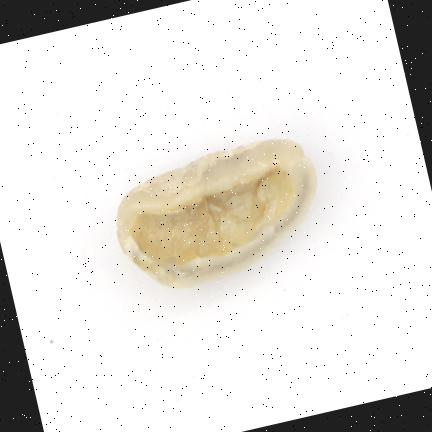shell: (117, 140, 316, 286)
